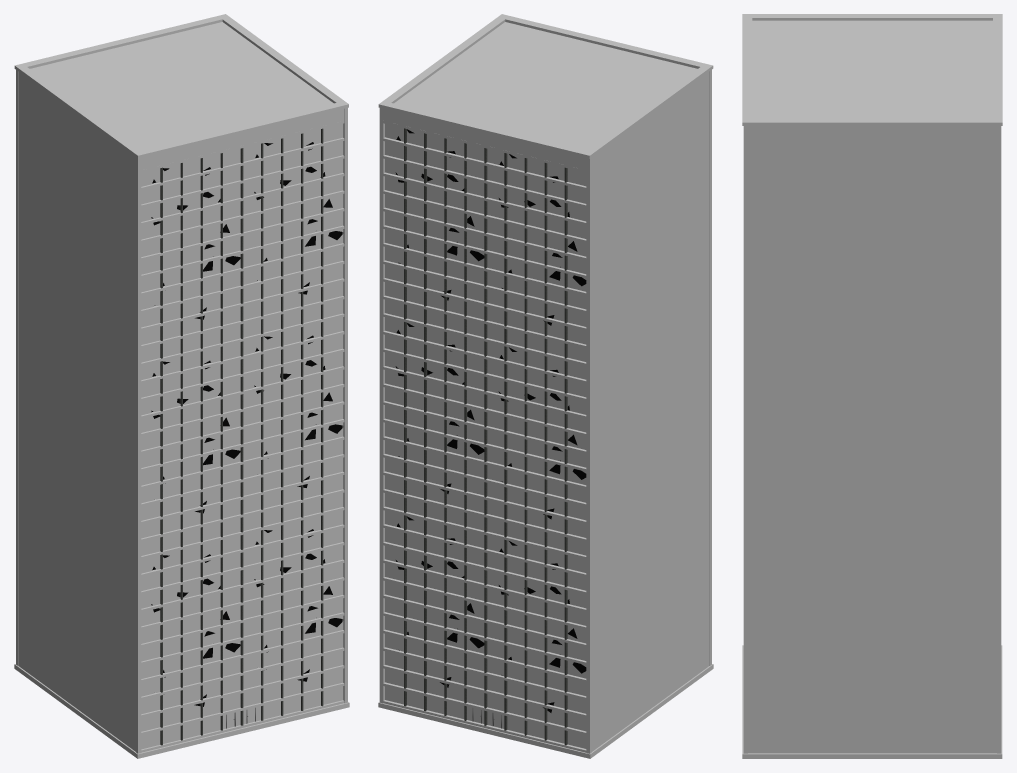
File: Building_03_HP_sm.FBX
3 renders of one model, left to right at view 1: azimuth 30°, elevation 25°; view 2: azimuth 150°, elevation 25°; view 3: azimuth 270°, elevation 25°, orthographic. The views are drawn at different scales.
Visible parts, largest first — view 1: Building_03_HP_sm_LOD0; view 2: Building_03_HP_sm_LOD0; view 3: Building_03_HP_sm_LOD0.
Boxes of the visible parts, left/top/right/bottom form: Building_03_HP_sm_LOD0: left=14, top=14, right=349, bottom=758; Building_03_HP_sm_LOD0: left=378, top=14, right=713, bottom=758; Building_03_HP_sm_LOD0: left=742, top=14, right=1002, bottom=758.
Size of what is drawn, in the model's own units: 4888 by 4931 by 13298.
